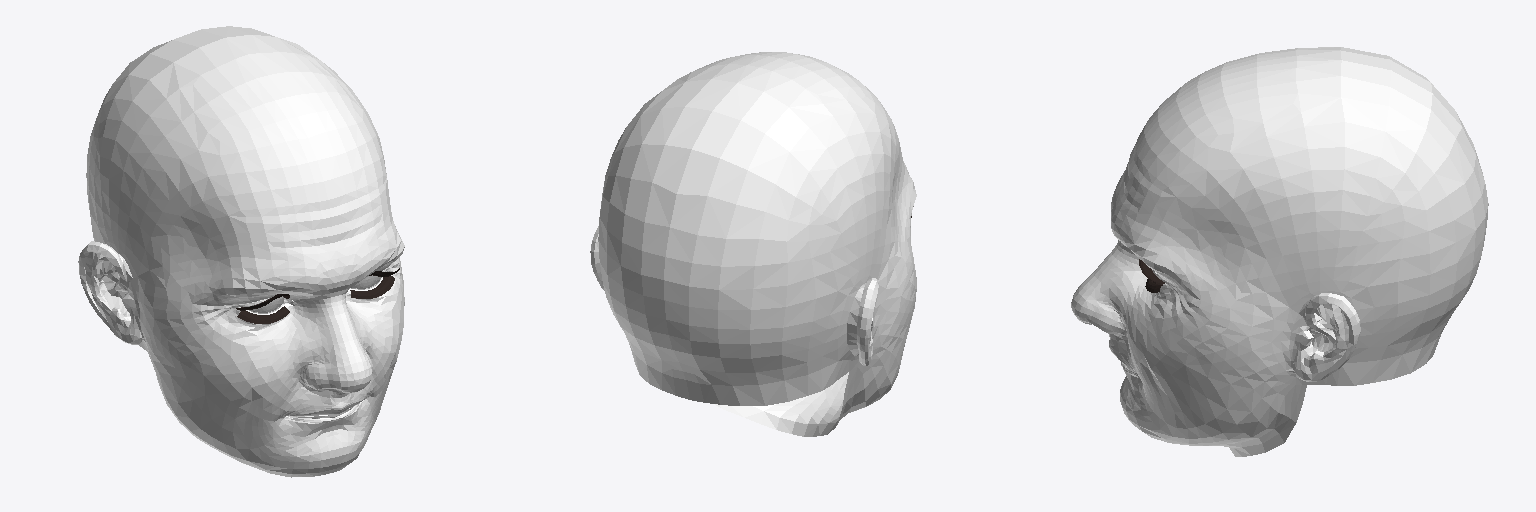
Rendered from Fat.obj.
3 views of the same model, side by side, from view 1: azimuth 30°, elevation 25°; view 2: azimuth 150°, elevation 25°; view 3: azimuth 270°, elevation 25° (orthographic).
Visible parts, largest first — view 1: Genesis2Male; view 2: Genesis2Male; view 3: Genesis2Male.
Boxes of the visible parts, x1,y1,x2,y2 form: Genesis2Male: [78, 26, 404, 477]; Genesis2Male: [590, 52, 916, 436]; Genesis2Male: [1071, 47, 1488, 456].
Size of the model in its own units: 18.04 by 24 by 23.18.